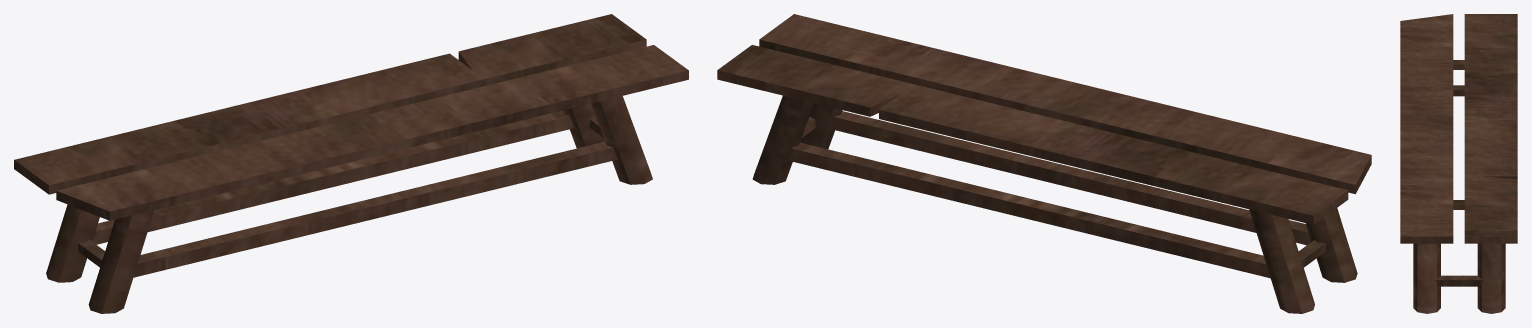
Rendered from objects_bench_1.glb.
3 renders of one model, left to right at view 1: azimuth 30°, elevation 25°; view 2: azimuth 150°, elevation 25°; view 3: azimuth 270°, elevation 25°, orthographic. The views are drawn at different scales.
Visible parts, largest first — view 1: bench_1; view 2: bench_1; view 3: bench_1.
Boxes of the visible parts, x1=… form: bench_1: x1=14, y1=14, x2=688, y2=313; bench_1: x1=717, y1=14, x2=1371, y2=313; bench_1: x1=1400, y1=14, x2=1517, y2=313.
Bounding box in the file's own units: 7.03 × 1.25 × 1.57.
1 material, 1 textured.
